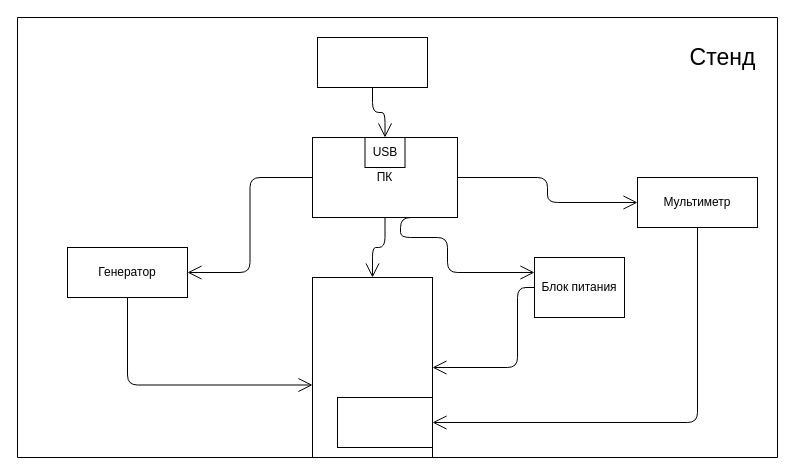
Some shapes in this 795 by 475 pixel diagram are drawn without their labels. The box of each missing label's shape, as (x1, y1, x2, y2) in pixels:
AIM-XXX: (336, 396, 432, 448)
Камера: (316, 36, 428, 88)
стд1620: (312, 276, 432, 458)
